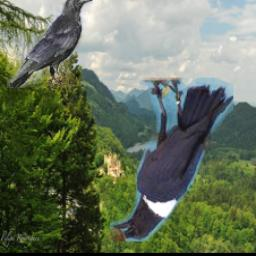Crow: (111, 78, 234, 241), (7, 0, 93, 88)
